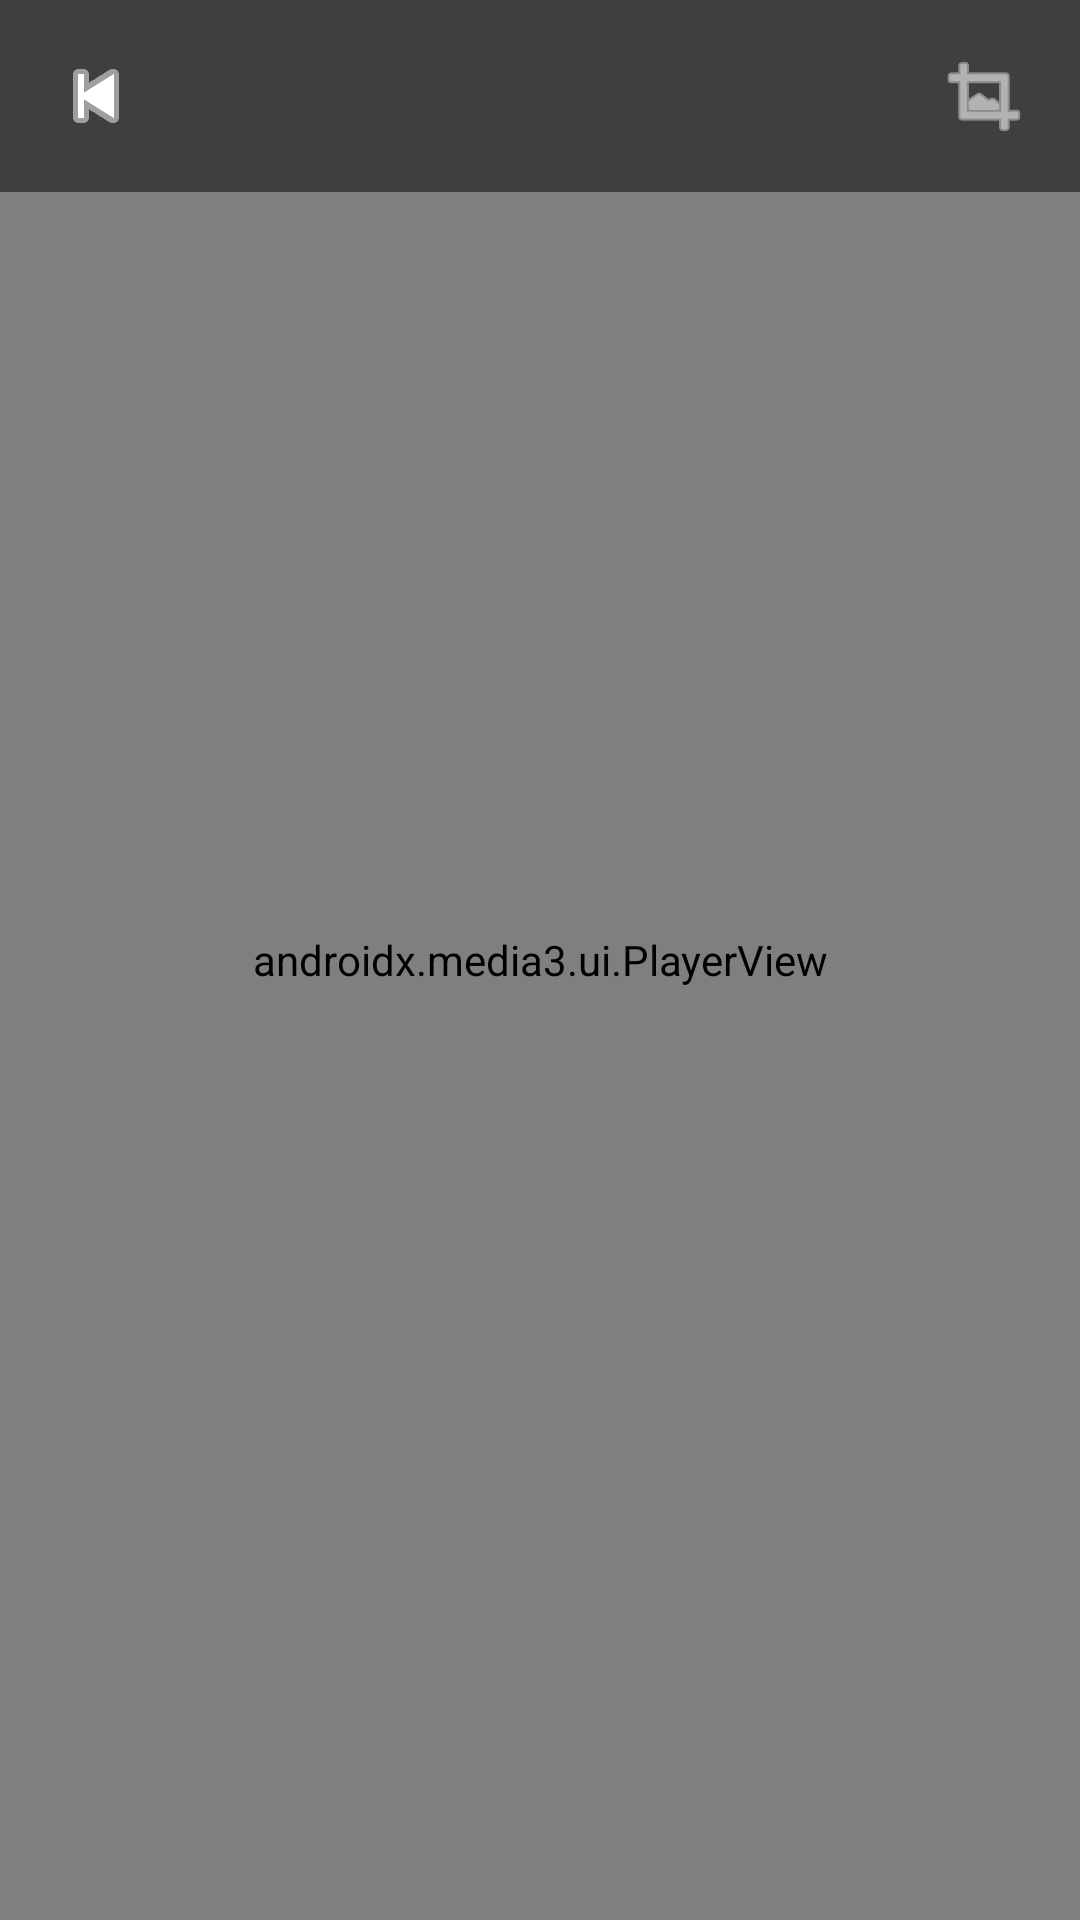

Icon click points for this 1080px×1920px phone screenshot, format point (x, y):
Back: point (96, 96)
crop: point (984, 96)
